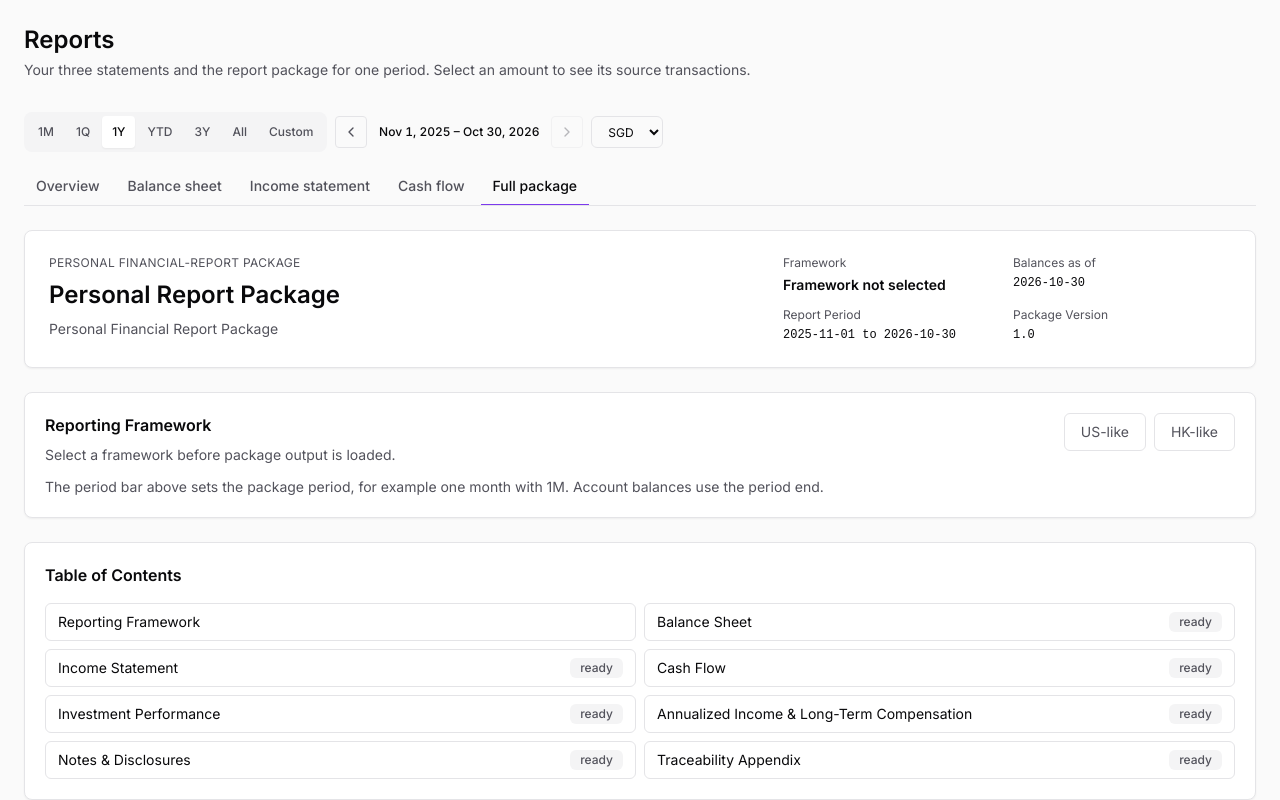
PersonalReportPackagePage › AC20.6.1 renders the API error when selected framework package output cannot load
This screenshot has width=1280, height=800.
What coordinates should you click on to do the following:
click the button "US-like"
I would click on:
 (1105, 432)
Its box is [1064,413,1146,451].
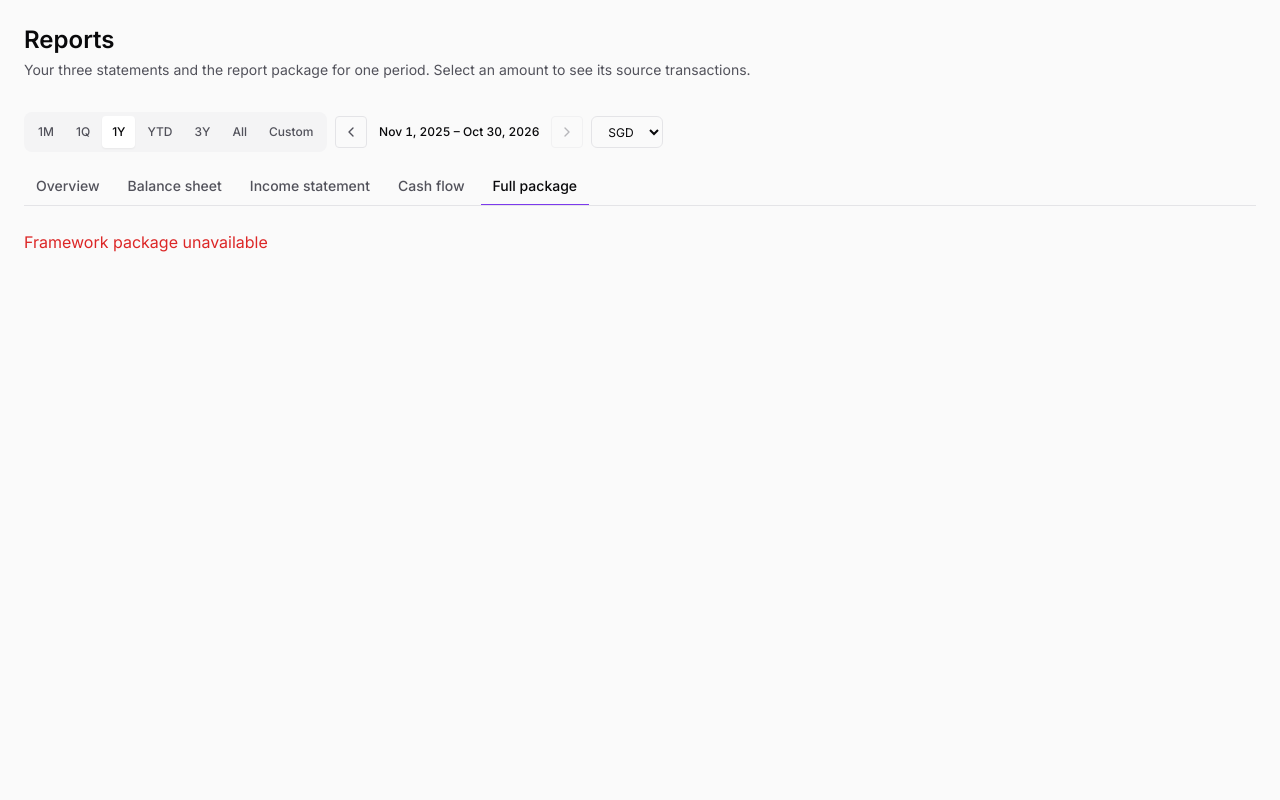
Now the text "Framework package unavailable" is shown, box [24,232,268,252]
